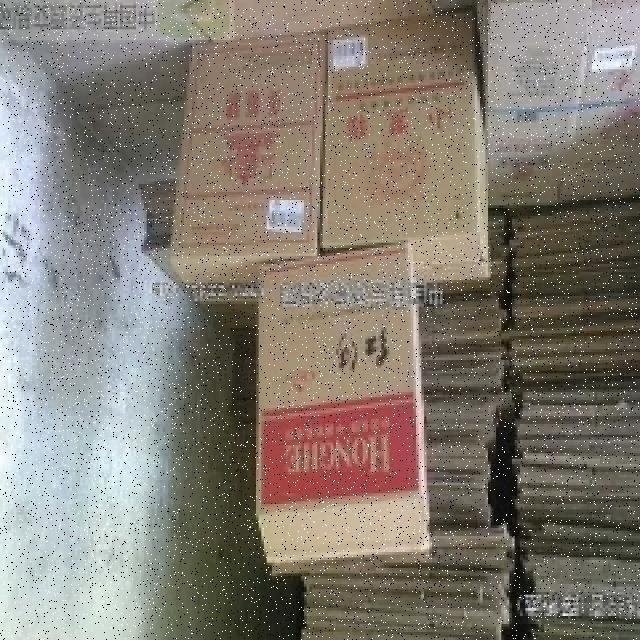box: (244, 263, 441, 556), (165, 22, 320, 300), (331, 34, 473, 268)
